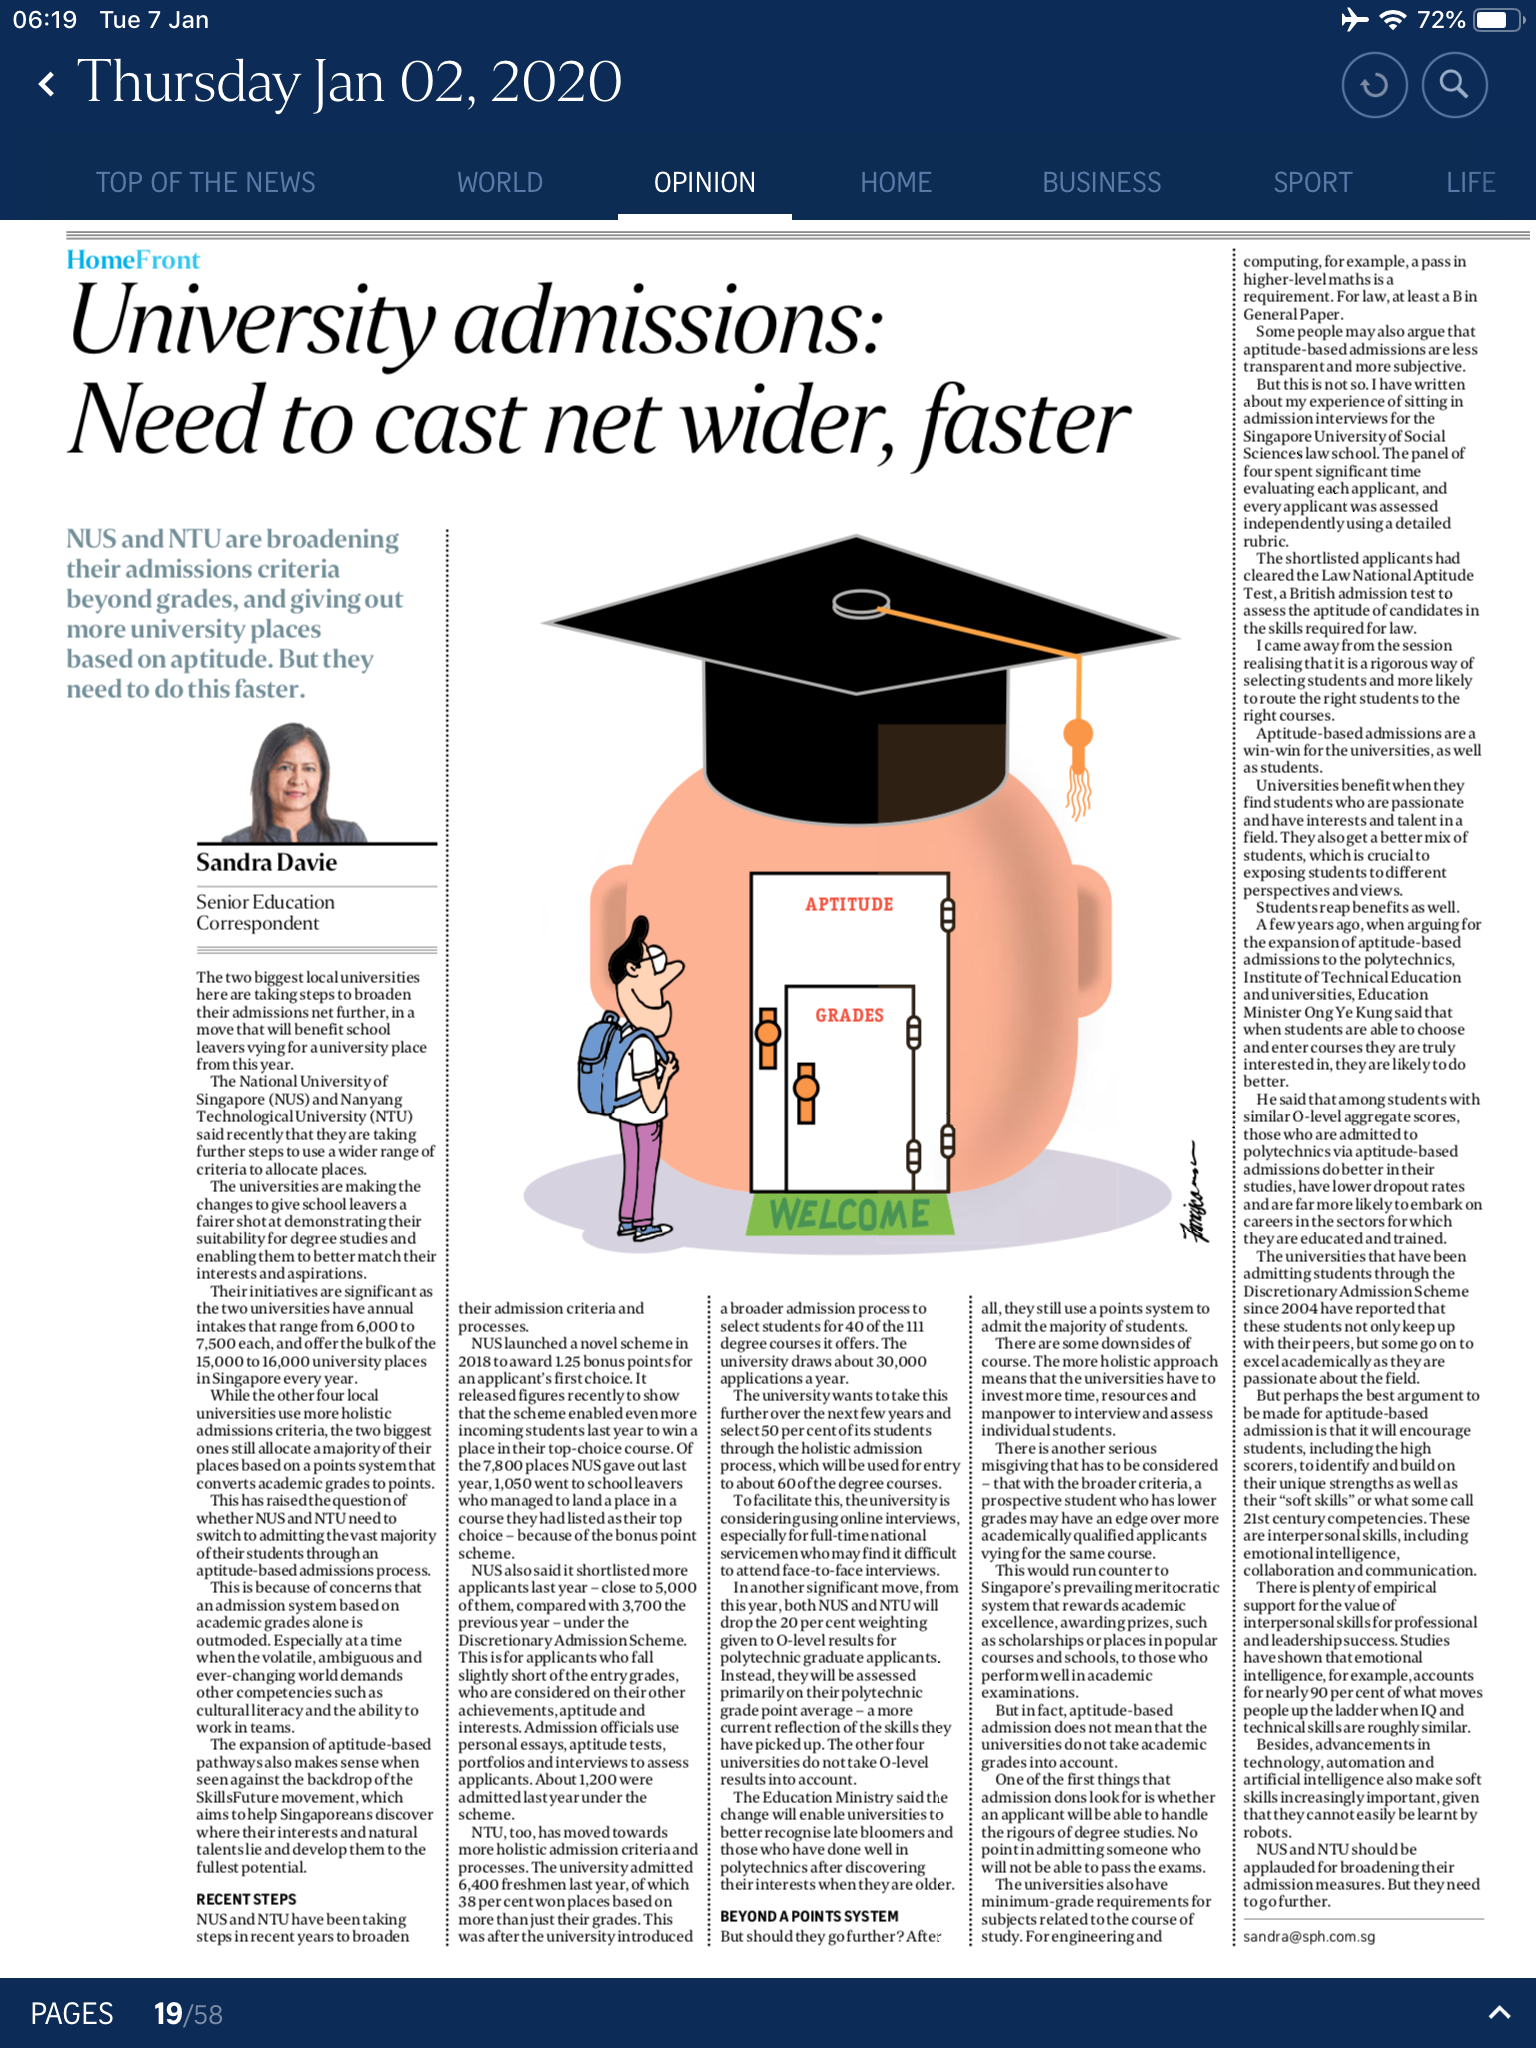Byline: (194, 847, 347, 943)
Headline: (61, 266, 1147, 484), (715, 1898, 905, 1930), (192, 1879, 305, 1914)
Image: (513, 518, 1234, 1287), (207, 713, 366, 845)
Text: (1236, 248, 1501, 1921), (192, 963, 439, 1884), (975, 1293, 1226, 1954), (453, 1298, 700, 1953), (712, 1293, 966, 1898), (61, 514, 418, 705), (190, 1909, 413, 1953), (713, 1922, 954, 1954)
